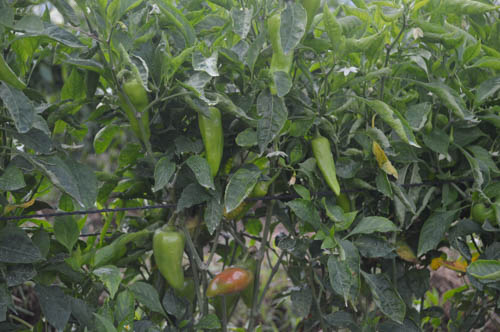ChiliPepper: (151, 228, 184, 288), (194, 107, 221, 172), (269, 16, 292, 89), (118, 83, 149, 137), (309, 136, 337, 195)
